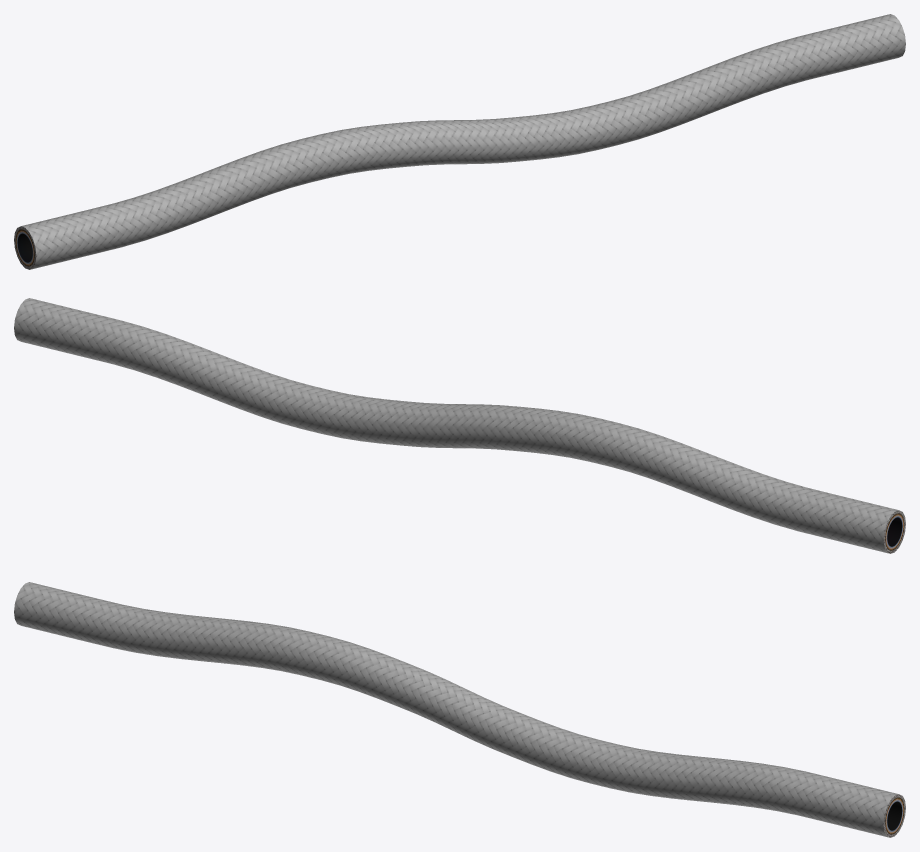
The picture shows the model from 3 angles, top to bottom: view 1: azimuth 30°, elevation 25°; view 2: azimuth 150°, elevation 25°; view 3: azimuth 330°, elevation 25°; orthographic projection.
Parts seen in each view (by area): view 1: Stainless_Steel_Braid-06; view 2: Stainless_Steel_Braid-06; view 3: Stainless_Steel_Braid-06.
Boxes of the visible parts, x1,y1,x2,y2 form: Stainless_Steel_Braid-06: (14,14,905,269); Stainless_Steel_Braid-06: (14,298,905,553); Stainless_Steel_Braid-06: (14,582,905,837).
Size of the model in its own units: 0.3074 by 0.0264 by 0.0137.
2 materials, 2 textured.
